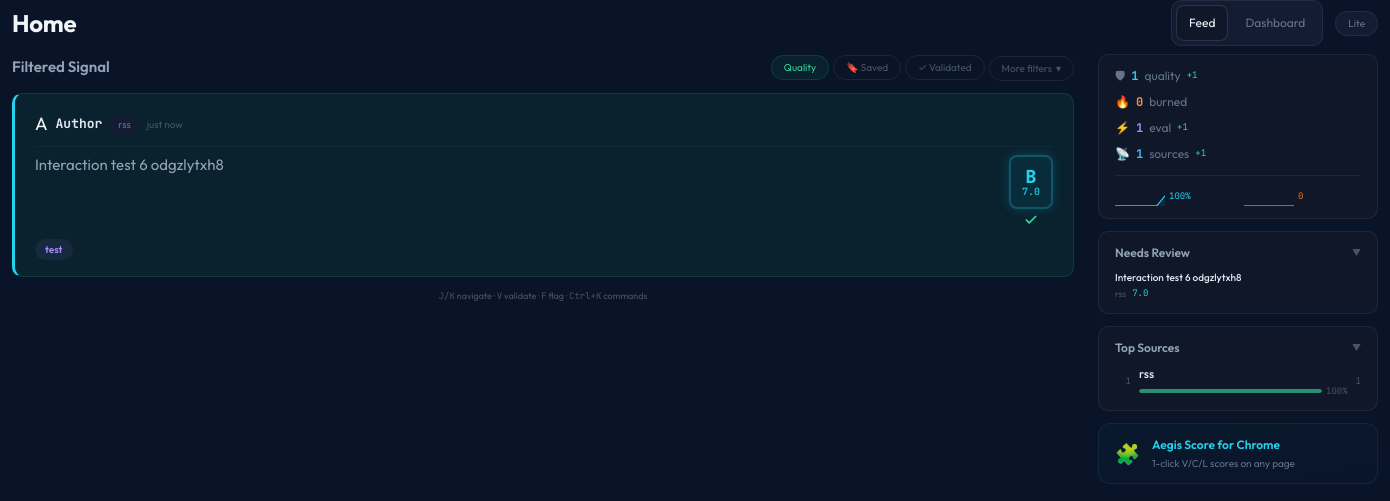
Test case: DashboardTab — More Filters dropdown › closes on click outside
Click the button with test id "aegis-filter-more" at (1031,68), box [989,56,1074,81]
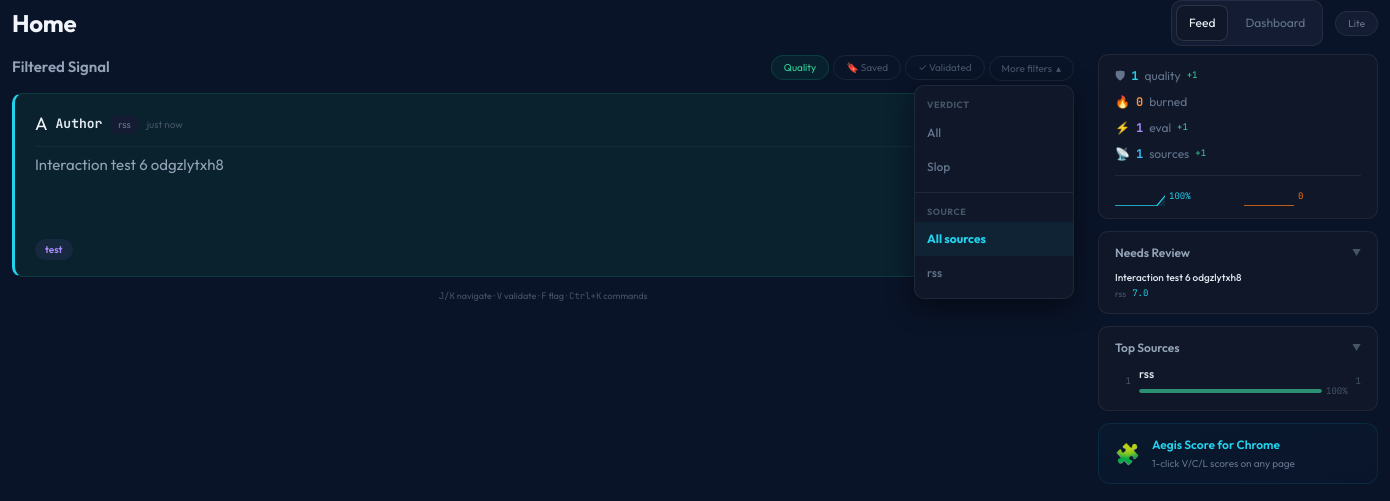
Result: the menu with test id "aegis-filter-more-panel" is shown at [914,85,1074,299]
Click on the dashboard container (outside the dropdown)
Press the mouse on the element with test id "aegis-dashboard" at (695,242), box [12,0,1378,484]
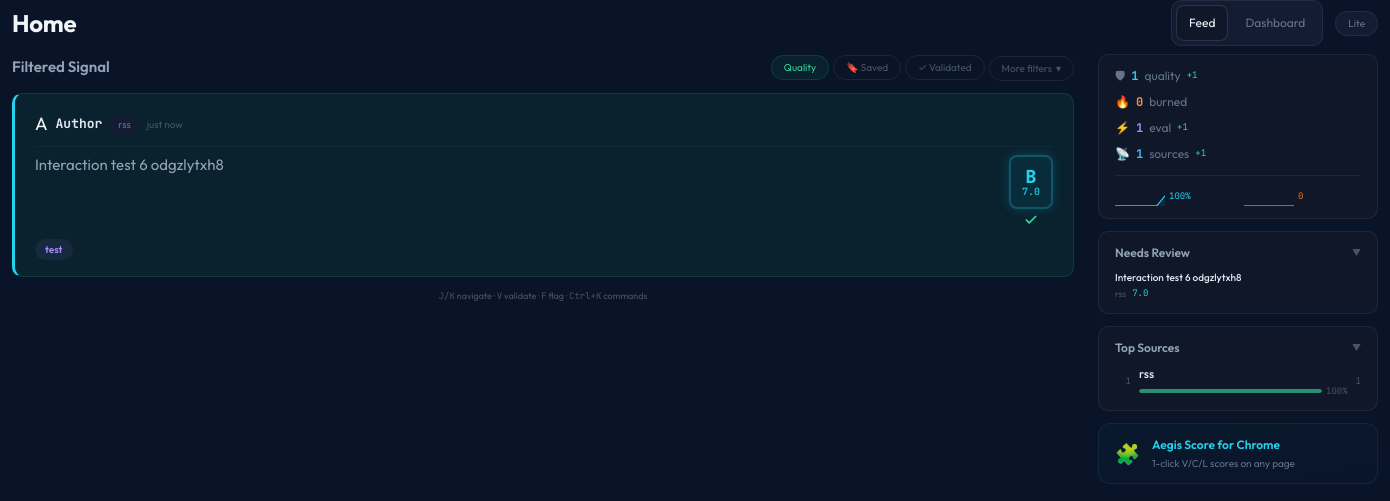
Result: the menu with test id "aegis-filter-more-panel" is gone
